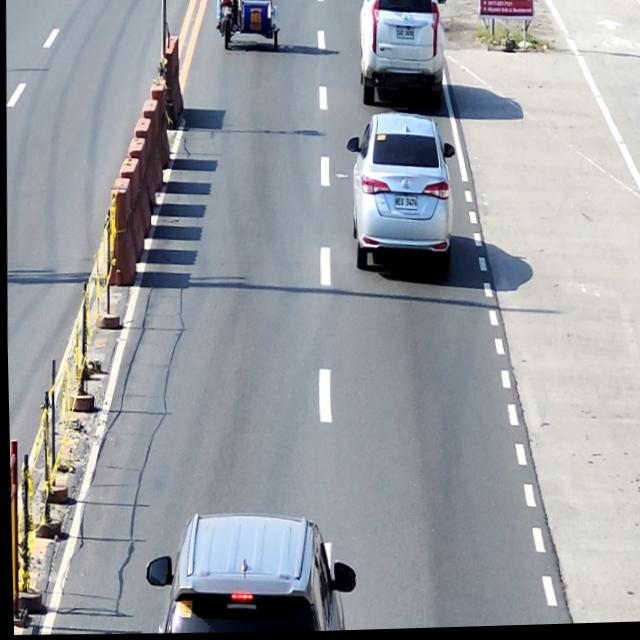Car: (140, 506, 356, 637), (342, 111, 457, 286), (352, 0, 448, 112)
License-Plate: (393, 195, 416, 212), (396, 28, 414, 41), (221, 7, 231, 16)
Tricycle: (216, 0, 279, 53)
